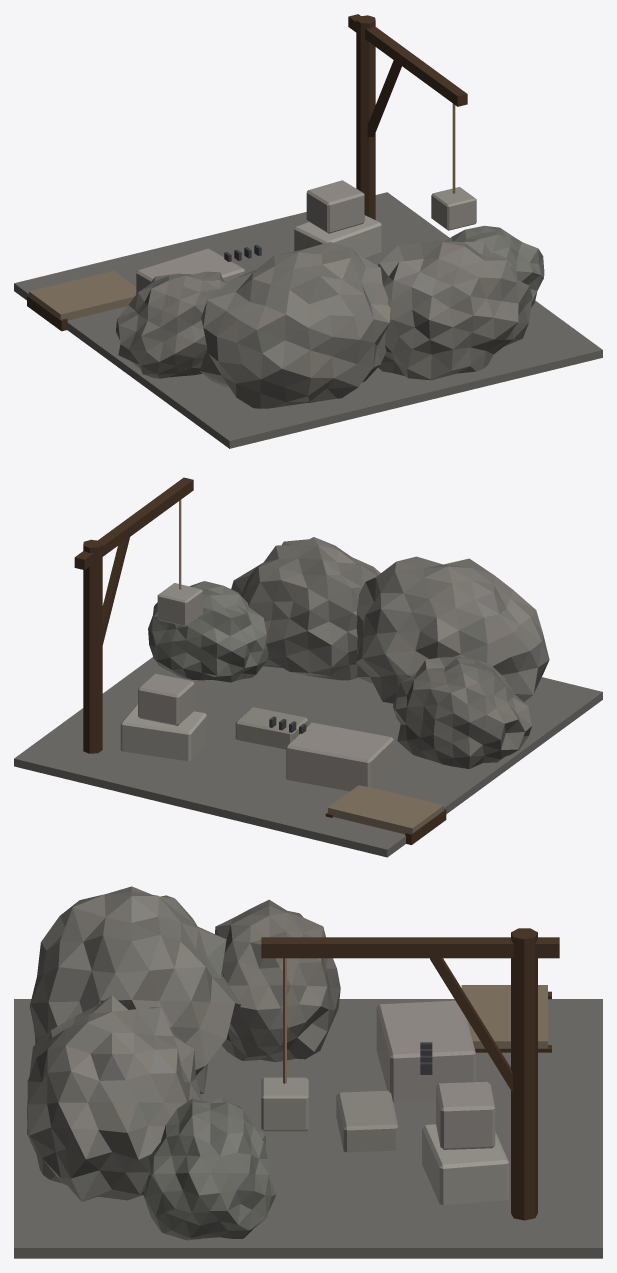
Rendered from Quarry.glb.
3 renders of one model, top to bottom at view 1: azimuth 30°, elevation 25°; view 2: azimuth 150°, elevation 25°; view 3: azimuth 270°, elevation 25°, orthographic. The views are drawn at different scales.
Parts seen in each view (by area): view 1: Mat_Stone_71706a, Mat_Stone_88847d, Mat_Wood_574333, Mat_Wood_483222; view 2: Mat_Stone_71706a, Mat_Stone_88847d, Mat_Wood_574333, Mat_Wood_483222; view 3: Mat_Stone_71706a, Mat_Stone_88847d, Mat_Wood_574333, Mat_Wood_483222, Mat_Thatch_968260.
Part boxes in pixels (box(x1,y1,x2,y2)): Mat_Stone_71706a: box(14, 192, 602, 448); Mat_Stone_88847d: box(118, 180, 532, 408); Mat_Wood_574333: box(29, 14, 467, 320); Mat_Wood_483222: box(27, 20, 375, 331); Mat_Stone_71706a: box(14, 545, 602, 857); Mat_Stone_88847d: box(120, 537, 549, 791); Mat_Wood_574333: box(74, 477, 443, 834); Mat_Wood_483222: box(83, 544, 446, 844); Mat_Stone_71706a: box(14, 886, 602, 1258); Mat_Stone_88847d: box(27, 886, 508, 1205); Mat_Wood_574333: box(261, 928, 559, 1092); Mat_Wood_483222: box(475, 932, 551, 1220); Mat_Thatch_968260: box(283, 958, 286, 1083).
Size of the model in its own units: 15.95 by 8.83 by 15.
Materials: 1 (1 with a texture image).
